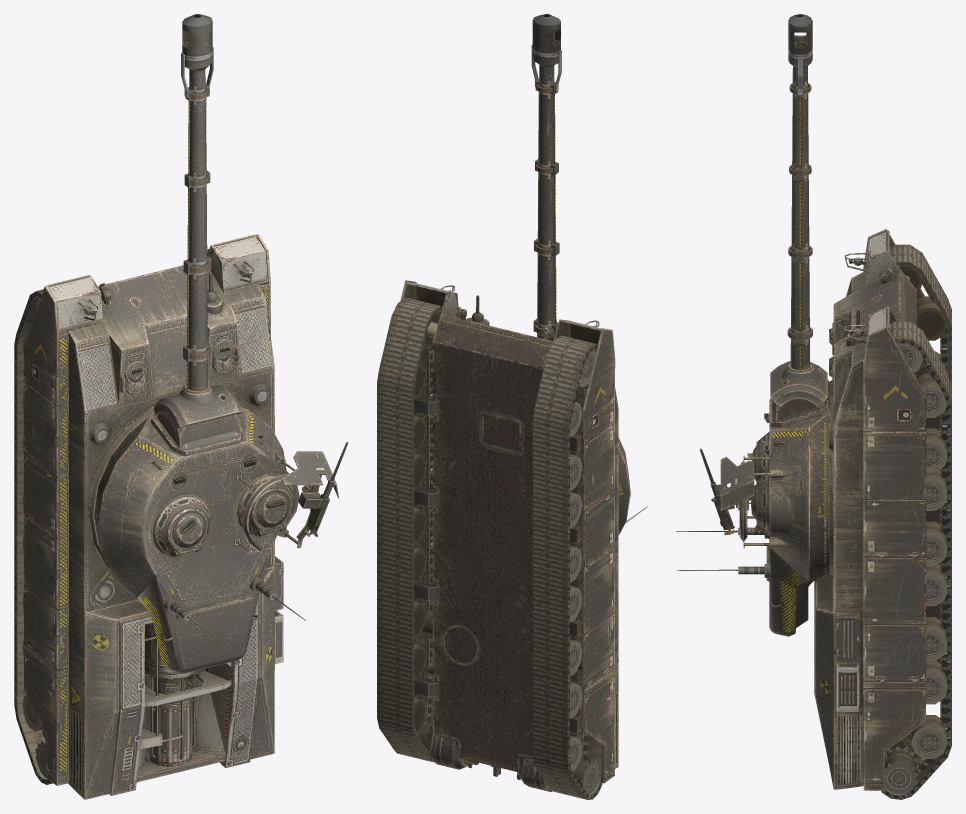
3 views of the same model, side by side, from view 1: azimuth 30°, elevation 25°; view 2: azimuth 150°, elevation 25°; view 3: azimuth 270°, elevation 25° (orthographic). The views are drawn at different scales.
Parts seen in each view (by area): view 1: hull, turret_01, gun_01, chassis_track_L, gun_01_mask; view 2: hull, chassis_track_R, chassis_track_L, gun_01, turret_01, chassis_wheel_L_10; view 3: hull, turret_01, gun_01, chassis_track_R, gun_01_mask, chassis_track_L, chassis_wheel_R_10, chassis_wheel_R_09, chassis_wheel_L_02, chassis_wheel_R_05, chassis_wheel_R_03, chassis_wheel_R_07 (+4 smaller).
Part boxes in pixels (left/top/right/bottom): hull: left=24, top=234, right=283, bottom=799; turret_01: left=94, top=407, right=348, bottom=673; gun_01: left=181, top=14, right=213, bottom=390; chassis_track_L: left=14, top=289, right=67, bottom=784; gun_01_mask: left=153, top=383, right=242, bottom=429; hull: left=400, top=280, right=618, bottom=791; chassis_track_R: left=377, top=297, right=442, bottom=761; chassis_track_L: left=532, top=335, right=602, bottom=799; gun_01: left=531, top=14, right=561, bottom=340; turret_01: left=618, top=437, right=647, bottom=535; chassis_wheel_L_10: left=572, top=759, right=599, bottom=794; hull: left=814, top=229, right=925, bottom=790; turret_01: left=676, top=379, right=829, bottom=636; gun_01: left=787, top=14, right=812, bottom=370; chassis_track_R: left=881, top=321, right=951, bottom=799; gun_01_mask: left=770, top=361, right=827, bottom=406; chassis_track_L: left=889, top=244, right=951, bottom=385; chassis_wheel_R_10: left=885, top=746, right=918, bottom=793; chassis_wheel_R_09: left=911, top=715, right=947, bottom=758; chassis_wheel_L_02: left=917, top=296, right=947, bottom=340; chassis_wheel_R_05: left=926, top=521, right=947, bottom=565; chassis_wheel_R_03: left=926, top=428, right=947, bottom=472; chassis_wheel_R_07: left=926, top=617, right=947, bottom=660.
Size of the model in its own units: 3.32 by 11.58 by 3.92.
2 materials, 2 textured.
